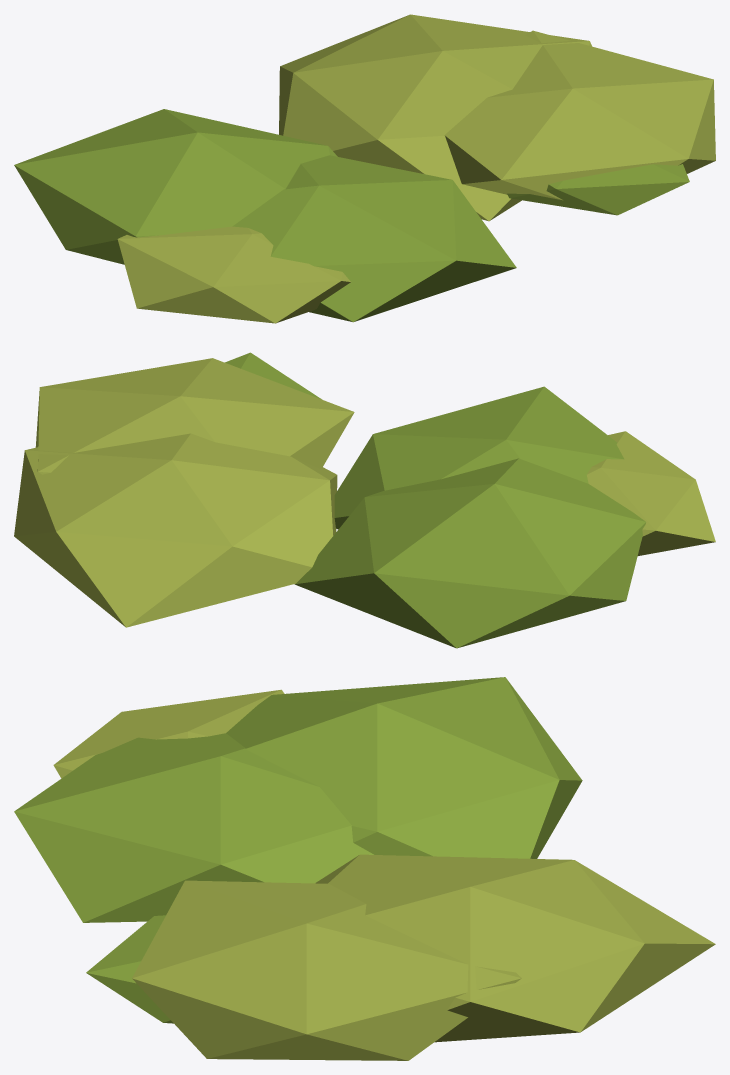
The model's file is mossa_2.glb.
3 renders of one model, top to bottom at view 1: azimuth 30°, elevation 25°; view 2: azimuth 150°, elevation 25°; view 3: azimuth 270°, elevation 25°, orthographic. The views are drawn at different scales.
Parts seen in each view (by area): view 1: mossa_2; view 2: mossa_2; view 3: mossa_2.
Boxes of the visible parts, x1,y1,x2,y2 form: mossa_2: (14,14,715,323); mossa_2: (14,352,715,648); mossa_2: (14,677,715,1060).
Size of the model in its own units: 1.42 by 0.2736 by 1.17.
